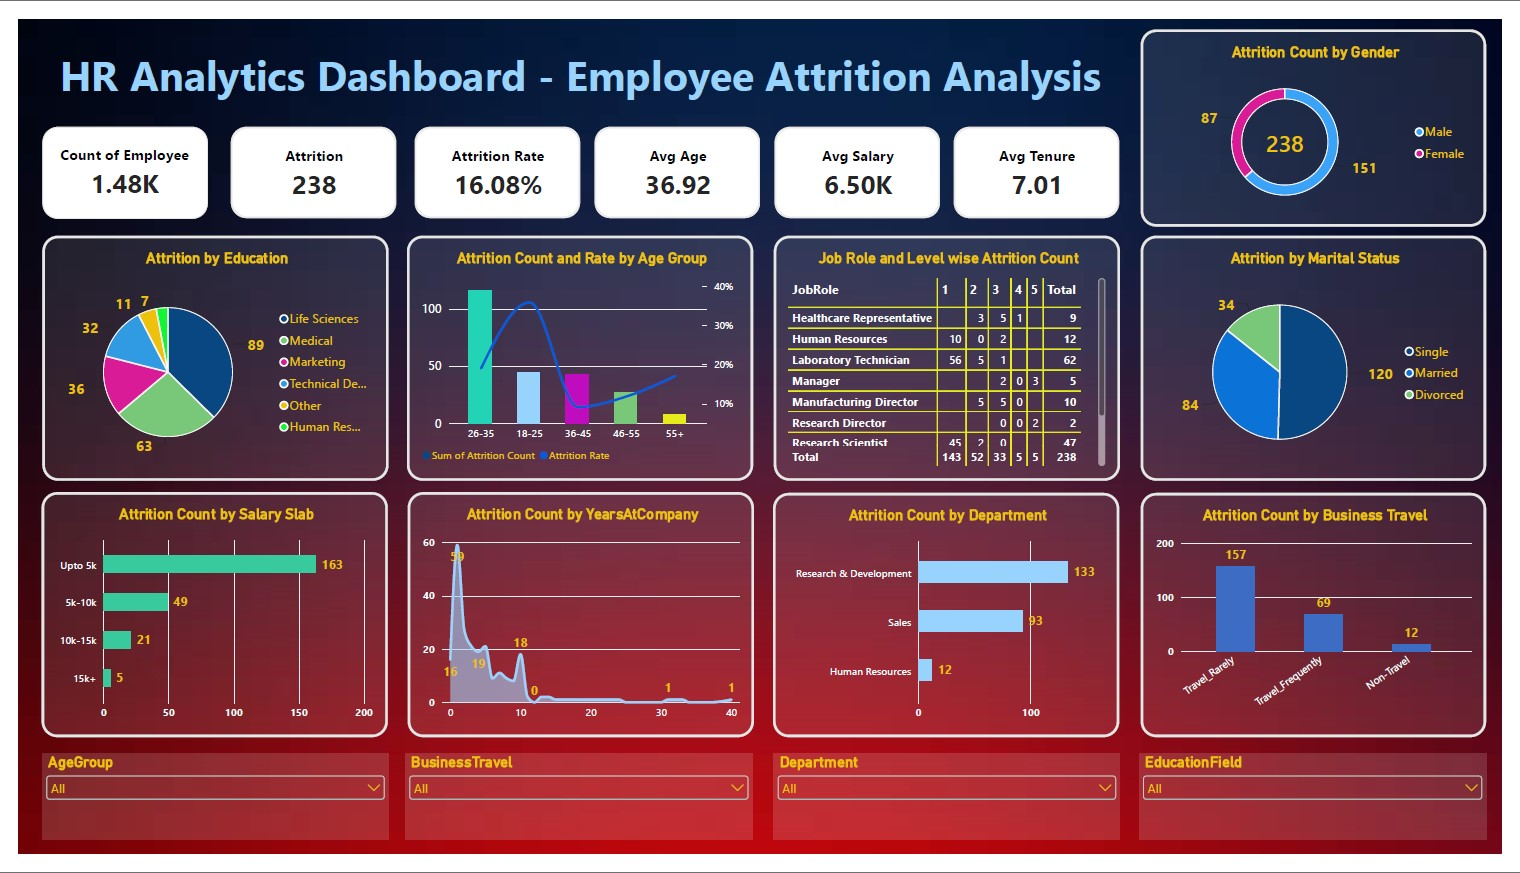

The page's visual inventory and layout, read from the dashboard file:
{"tool":"powerbi","page":{"name":"Page 1","canvas":[1920,1080],"ordinal":0},"visuals":[{"type":"textbox","box":[30,35,1395,87.5],"z":0},{"type":"cardVisual","title":"Count of Emp","fields":{"Data":["CountNonNull(HR_Analytics.EmpID)"]},"box":[31.2,138.8,213.8,118.8],"z":1000},{"type":"cardVisual","title":"Count of Emp","fields":{"Data":["Sum(HR_Analytics.Attrition Count)"]},"box":[275,138.8,214,118.7],"z":2000},{"type":"cardVisual","title":"Count of Emp","fields":{"Data":["HR_Analytics.Attrition Rate"]},"box":[512.5,138.8,214,118.7],"z":3000},{"type":"cardVisual","title":"Count of Emp","fields":{"Data":["Avg(HR_Analytics.Age)"]},"box":[746.2,138.8,214,118.7],"z":4000},{"type":"cardVisual","title":"Count of Emp","fields":{"Data":["Avg(HR_Analytics.MonthlyIncome)"]},"box":[978.8,138.8,214,118.7],"z":5000},{"type":"cardVisual","title":"Count of Emp","fields":{"Data":["Avg(HR_Analytics.YearsAtCompany)"]},"box":[1211.2,138.8,214,118.7],"z":6000},{"type":"donutChart","title":"Attrition Count by Gender","fields":{"Category":["HR_Analytics.Gender"],"Y":["Sum(HR_Analytics.Attrition Count)"]},"box":[1452.5,12.5,447.5,255],"z":7000},{"type":"pieChart","title":"Attrition by Education","fields":{"Category":["HR_Analytics.EducationField"],"Y":["Sum(HR_Analytics.Attrition Count)"]},"box":[31.5,280,447.8,316.7],"z":8000},{"type":"lineStackedColumnComboChart","title":"Attrition Count and Rate by Age Group","fields":{"Category":["HR_Analytics.AgeGroup"],"Y":["Sum(HR_Analytics.Attrition Count)"],"Y2":["HR_Analytics.Attrition Rate"]},"box":[502.7,280,447.8,316.7],"z":9000},{"type":"pivotTable","title":"Job Role and Level wise Attrition Count","fields":{"Rows":["HR_Analytics.JobRole"],"Columns":["HR_Analytics.JobLevel"],"Values":["Sum(HR_Analytics.Attrition Count)"]},"box":[978.2,280.3,447.8,316.7],"z":10000},{"type":"barChart","title":"Attrition Count by Salary Slab","fields":{"Category":["HR_Analytics.SalarySlab"],"Y":["Sum(HR_Analytics.Attrition Count)"]},"box":[30.4,612.2,447.8,316.7],"z":11000},{"type":"areaChart","title":"Attrition Count by YearsAtCompany","fields":{"Category":["HR_Analytics.YearsAtCompany"],"Y":["Sum(HR_Analytics.Attrition Count)"]},"box":[503.9,612.2,447.8,316.7],"z":12000},{"type":"barChart","title":"Attrition Count by Department","fields":{"Y":["Sum(HR_Analytics.Attrition Count)"],"Category":["HR_Analytics.Department"]},"box":[977.1,612.5,447.8,316.7],"z":13000},{"type":"pieChart","title":"Attrition by Marital Status","fields":{"Category":["HR_Analytics.MaritalStatus"],"Y":["Sum(HR_Analytics.Attrition Count)"]},"box":[1452.5,280,447.8,316.7],"z":14000},{"type":"columnChart","title":"Attrition Count by Business Travel","fields":{"Category":["HR_Analytics.BusinessTravel"],"Y":["Sum(HR_Analytics.Attrition Count)"]},"box":[1452.5,612.5,447.8,316.7],"z":15000},{"type":"slicer","fields":{"Values":["HR_Analytics.AgeGroup"]},"box":[31.2,950,447.8,111.1],"z":16000},{"type":"slicer","fields":{"Values":["HR_Analytics.BusinessTravel"]},"box":[501.2,950,448.8,111.2],"z":17000},{"type":"slicer","fields":{"Values":["HR_Analytics.Department"]},"box":[977.5,950,448.8,111.2],"z":18000},{"type":"slicer","fields":{"Values":["HR_Analytics.EducationField"]},"box":[1451.2,950,448.8,111.2],"z":19000}]}

Visuals, with their boxes in screenshot pixels (x1, y1, x2, y2), scaled from the page's 1920x1080 canvas onto the 1520x873 screenshot:
textbox: <box>24,28,1128,99</box>
"Count of Emp" cardVisual: <box>25,112,194,208</box>
"Count of Emp" cardVisual: <box>218,112,387,208</box>
"Count of Emp" cardVisual: <box>406,112,575,208</box>
"Count of Emp" cardVisual: <box>591,112,760,208</box>
"Count of Emp" cardVisual: <box>775,112,944,208</box>
"Count of Emp" cardVisual: <box>959,112,1128,208</box>
"Attrition Count by Gender" donutChart: <box>1150,10,1504,216</box>
"Attrition by Education" pieChart: <box>25,226,379,482</box>
"Attrition Count and Rate by Age Group" lineStackedColumnComboChart: <box>398,226,752,482</box>
"Job Role and Level wise Attrition Count" pivotTable: <box>774,227,1129,483</box>
"Attrition Count by Salary Slab" barChart: <box>24,495,379,751</box>
"Attrition Count by YearsAtCompany" areaChart: <box>399,495,753,751</box>
"Attrition Count by Department" barChart: <box>774,495,1128,751</box>
"Attrition by Marital Status" pieChart: <box>1150,226,1504,482</box>
"Attrition Count by Business Travel" columnChart: <box>1150,495,1504,751</box>
slicer - HR_Analytics.AgeGroup: <box>25,768,379,858</box>
slicer - HR_Analytics.BusinessTravel: <box>397,768,752,858</box>
slicer - HR_Analytics.Department: <box>774,768,1129,858</box>
slicer - HR_Analytics.EducationField: <box>1149,768,1504,858</box>
